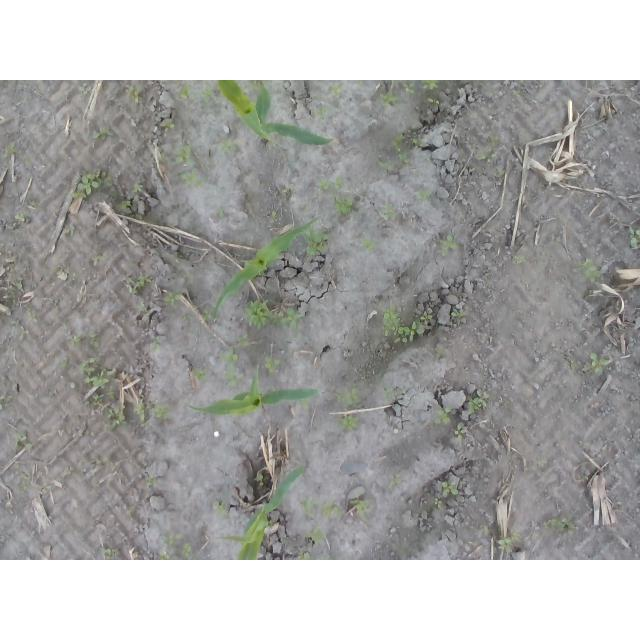Maize: (212, 216, 321, 321), (215, 464, 309, 560), (215, 80, 334, 146), (185, 367, 324, 417)
Weeds: (381, 305, 433, 344), (71, 170, 113, 199), (78, 358, 114, 391), (220, 345, 245, 387), (243, 299, 273, 329), (573, 258, 603, 286), (303, 226, 329, 254), (349, 494, 373, 523), (273, 307, 304, 329), (581, 352, 612, 373), (317, 177, 347, 198), (542, 515, 574, 534), (135, 398, 153, 431), (467, 390, 490, 414), (106, 406, 128, 431), (495, 533, 522, 553), (126, 274, 152, 294), (333, 388, 359, 407), (317, 499, 341, 519), (180, 168, 204, 187), (333, 196, 354, 217), (173, 144, 193, 165), (439, 235, 457, 258), (433, 406, 452, 426), (14, 432, 33, 452), (162, 531, 183, 549), (380, 387, 405, 402), (474, 146, 496, 163), (306, 527, 326, 545), (380, 92, 401, 109), (378, 204, 399, 221), (337, 414, 359, 430), (85, 393, 107, 408), (128, 87, 145, 104), (154, 403, 170, 421), (451, 309, 467, 326), (264, 356, 280, 373), (220, 139, 238, 154), (163, 291, 182, 305), (90, 453, 112, 465), (178, 83, 194, 99), (93, 126, 111, 140), (101, 548, 120, 561), (441, 482, 457, 497), (628, 225, 640, 245), (192, 369, 208, 384), (181, 544, 195, 561), (392, 133, 405, 151), (455, 423, 468, 441), (202, 87, 217, 102), (68, 333, 83, 348), (361, 237, 375, 252), (301, 500, 315, 515), (214, 501, 228, 516), (116, 200, 133, 212), (249, 81, 267, 92), (330, 83, 343, 98), (390, 473, 403, 488), (236, 334, 251, 347), (312, 107, 328, 119), (282, 184, 294, 200), (296, 548, 312, 560), (403, 82, 417, 95), (161, 120, 176, 132), (88, 333, 100, 348), (421, 80, 439, 90), (255, 474, 270, 486), (416, 190, 432, 201), (1, 394, 12, 410), (26, 308, 38, 322), (378, 161, 394, 171), (19, 325, 29, 341), (157, 550, 173, 560), (398, 152, 411, 164), (147, 474, 158, 488), (38, 483, 51, 494), (301, 397, 312, 410), (411, 137, 425, 147), (135, 304, 149, 314), (7, 142, 18, 154), (62, 466, 74, 477), (12, 276, 22, 289), (151, 338, 160, 352), (434, 347, 443, 361), (511, 256, 525, 265), (218, 205, 226, 220), (202, 308, 212, 320), (91, 254, 106, 262), (270, 210, 279, 223), (65, 225, 76, 235), (15, 213, 26, 223), (80, 85, 91, 95), (126, 507, 137, 517), (494, 169, 507, 177), (27, 197, 37, 207), (133, 184, 144, 193), (183, 270, 194, 279), (428, 97, 441, 104), (22, 156, 31, 166), (489, 134, 499, 142), (513, 90, 523, 98), (482, 525, 490, 535), (158, 153, 166, 163), (21, 473, 32, 480), (571, 359, 578, 370), (435, 498, 442, 509), (21, 482, 29, 491), (60, 360, 68, 368), (74, 433, 84, 439), (267, 519, 274, 526), (325, 554, 332, 560), (11, 320, 18, 325)
